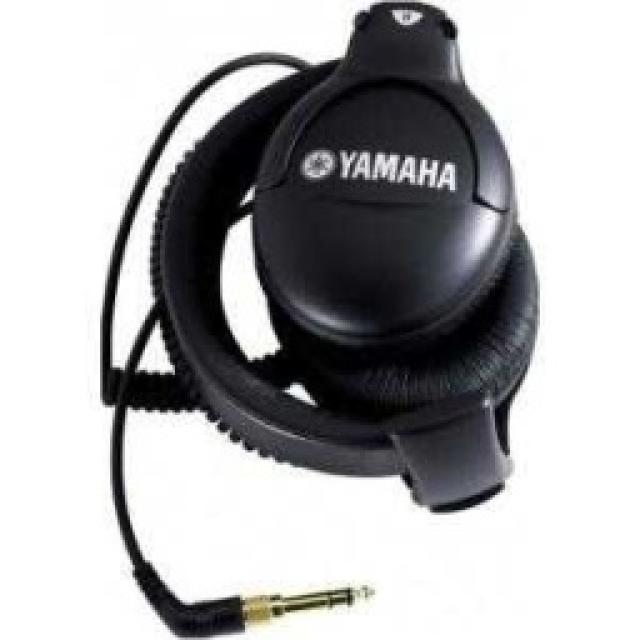headphones: (98, 0, 540, 638)
